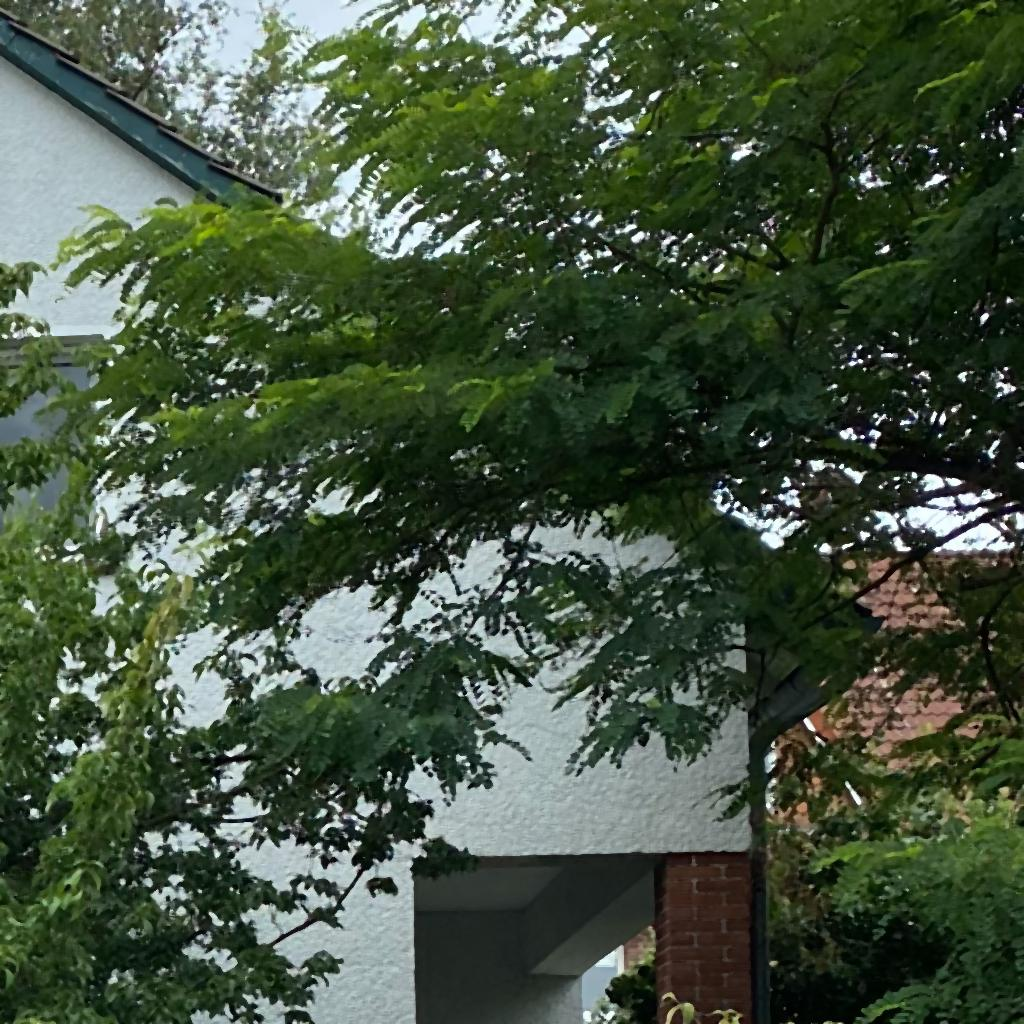tree: (48, 1, 1024, 852), (1, 261, 531, 1024), (1, 1, 314, 189)
